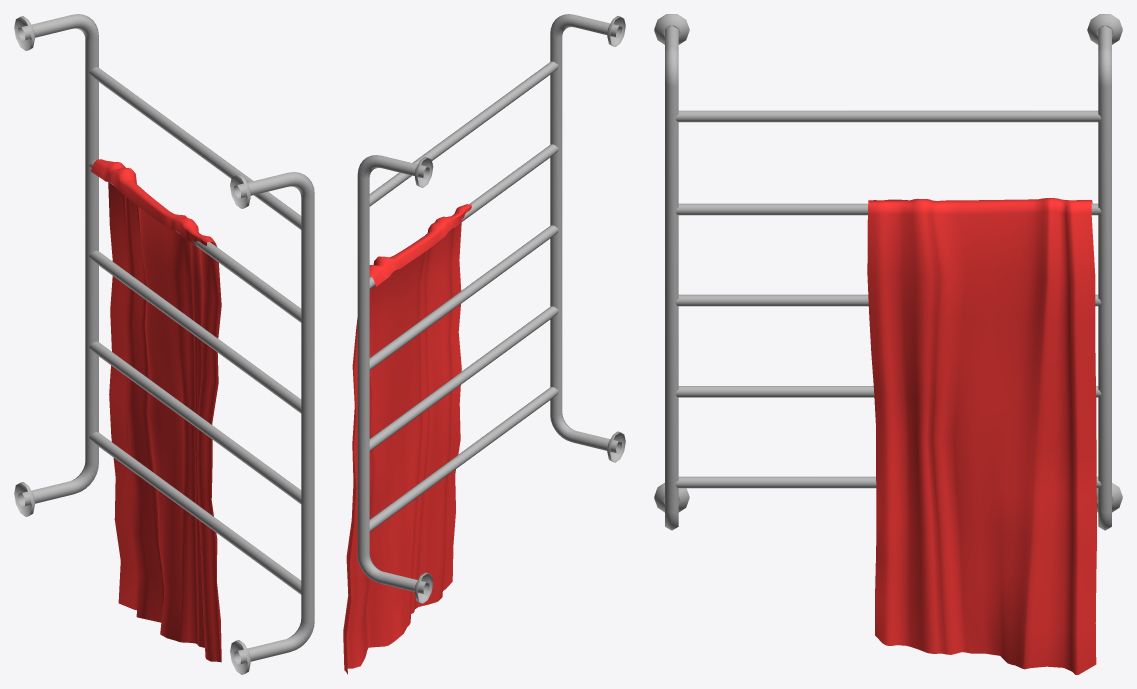
Rendered from drying_with_towel.FBX.
3 renders of one model, left to right at view 1: azimuth 30°, elevation 25°; view 2: azimuth 150°, elevation 25°; view 3: azimuth 270°, elevation 25°, orthographic. The views are drawn at different scales.
Parts seen in each view (by area): view 1: drying_with_towel; view 2: drying_with_towel; view 3: drying_with_towel.
Part boxes in pixels (<box>): drying_with_towel: <box>14,14,314,674</box>; drying_with_towel: <box>343,14,625,674</box>; drying_with_towel: <box>654,14,1122,674</box>.
Size of the model in its own units: 0.1402 by 0.7566 by 0.5268.
